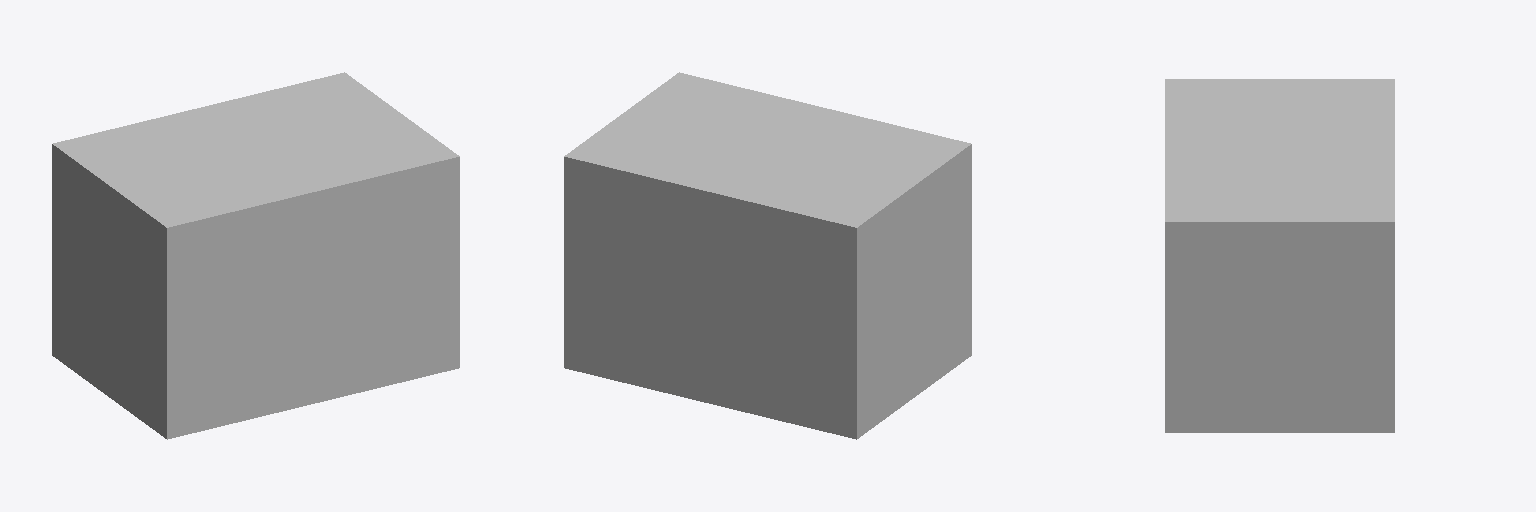
File: cardboard box.obj
3 renders of one model, left to right at view 1: azimuth 30°, elevation 25°; view 2: azimuth 150°, elevation 25°; view 3: azimuth 270°, elevation 25°, orthographic.
Visible parts, largest first — view 1: Cube.003_Cube; view 2: Cube.003_Cube; view 3: Cube.003_Cube.
Boxes of the visible parts, <box> form: Cube.003_Cube: <box>52,72,459,439</box>; Cube.003_Cube: <box>564,72,971,439</box>; Cube.003_Cube: <box>1165,79,1394,432</box>.
Bounding box in the file's own units: 1.75 × 1.21 × 1.19.